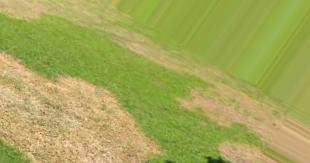patch: (8, 81, 106, 161), (96, 111, 128, 163), (207, 86, 247, 120), (223, 144, 248, 160)
